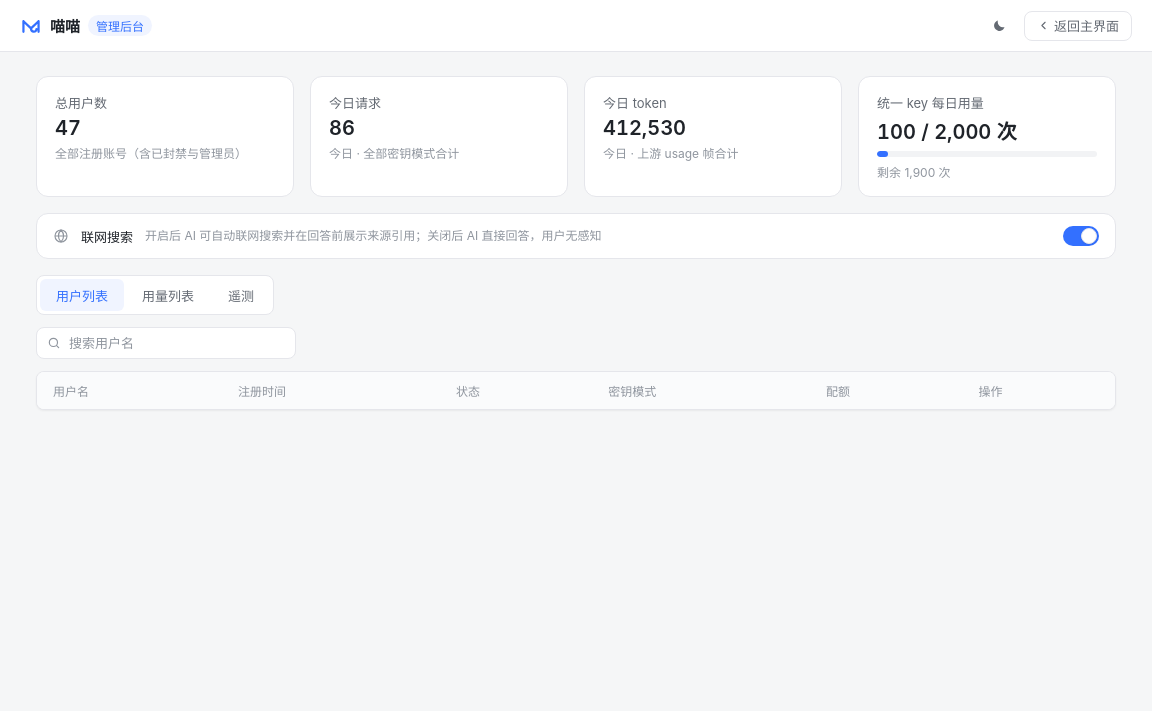
Test: 正常态渲染（文案逐字对照 design-iter-15 §2 登记表） › 工具行：T24 时间窗三段逐字 + 默认近 7 天选中；T25 保留期注记（retention_days 供数）
Click the radio button labelled "遥测": (241, 295) [212,279,270,311]
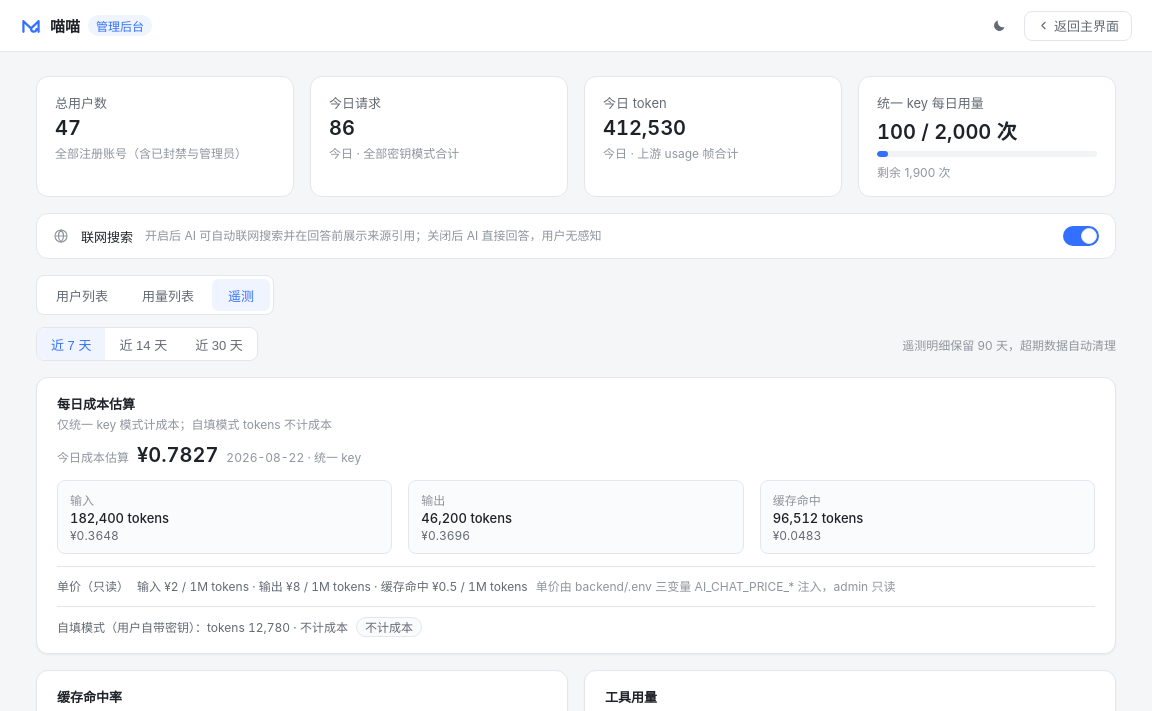
Check: the text with class "retention-note" reads "遥测明细保留 90 天，超期数据自动清理", box [902,338,1116,352]
